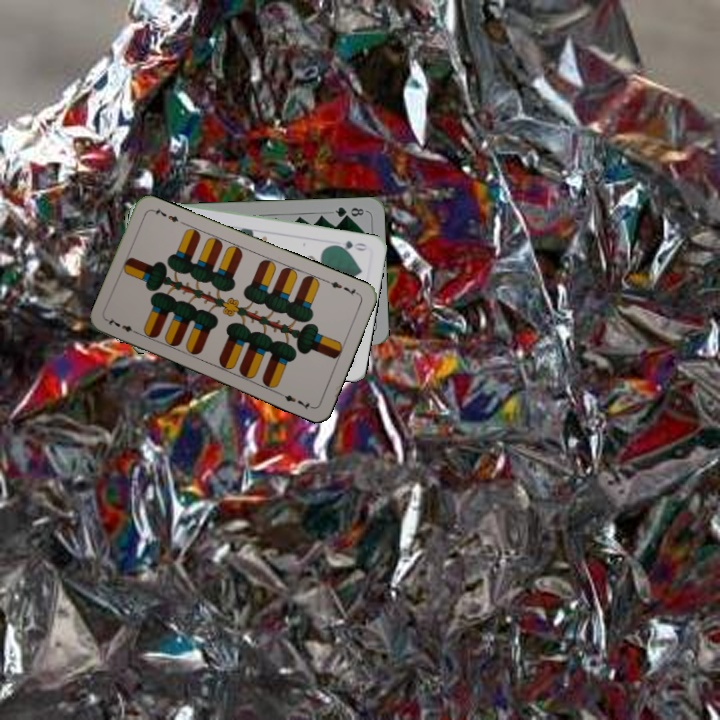E7: (103, 314, 142, 337), (323, 276, 362, 298)
G8: (331, 203, 366, 220)
GO: (330, 237, 370, 254)
